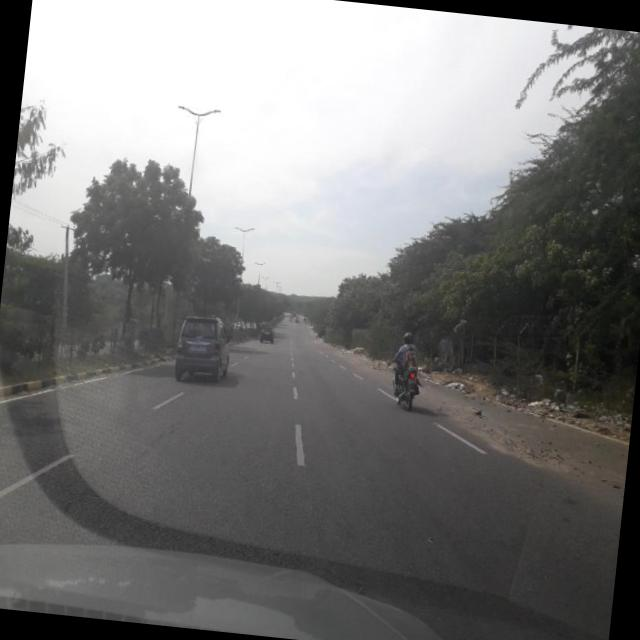pothole: (56, 373, 197, 535)
